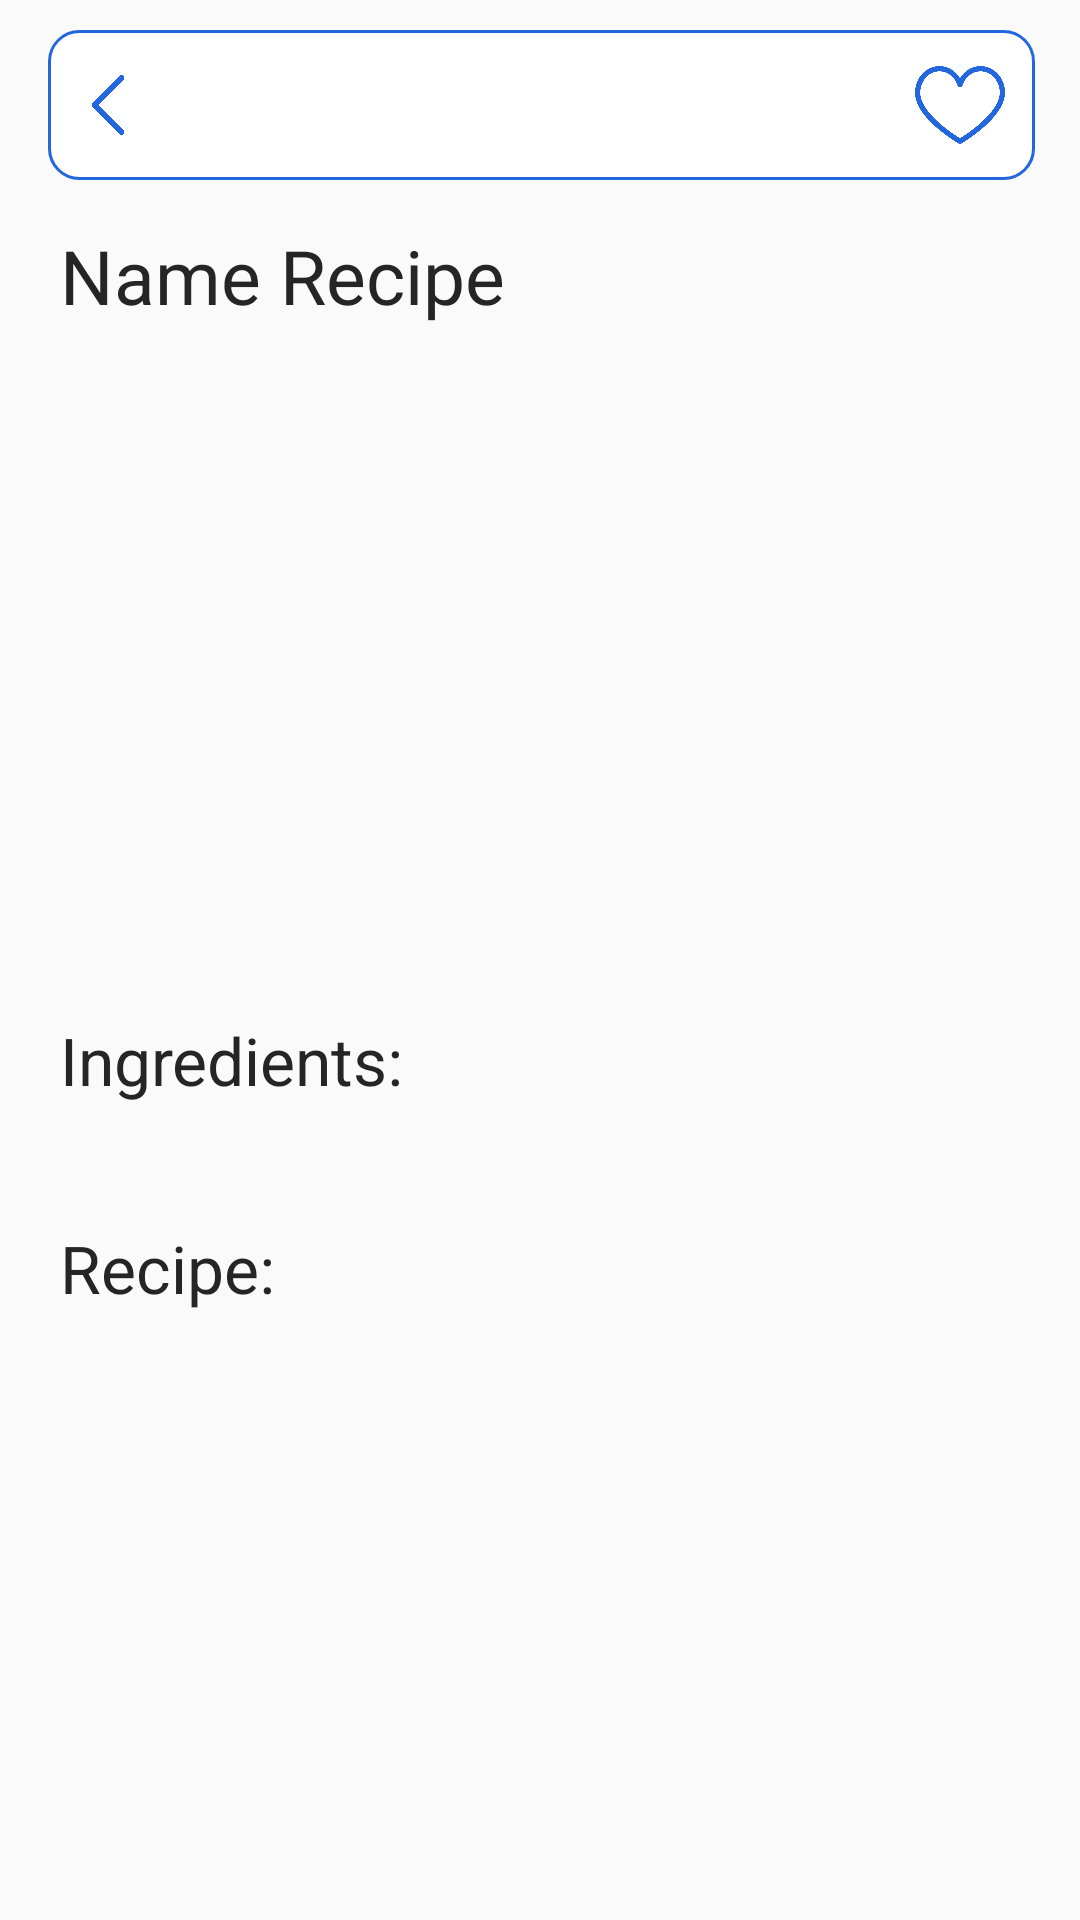

Icon click points for this 1080 x 1920 phone screenshot, format (x=x, y=y):
back: (x=108, y=105)
not favorite: (x=960, y=105)
